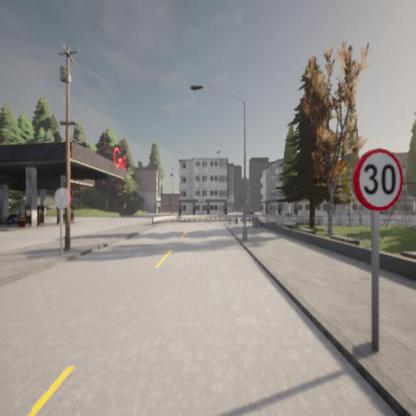traffic_sign_30: (353, 147, 404, 210)
